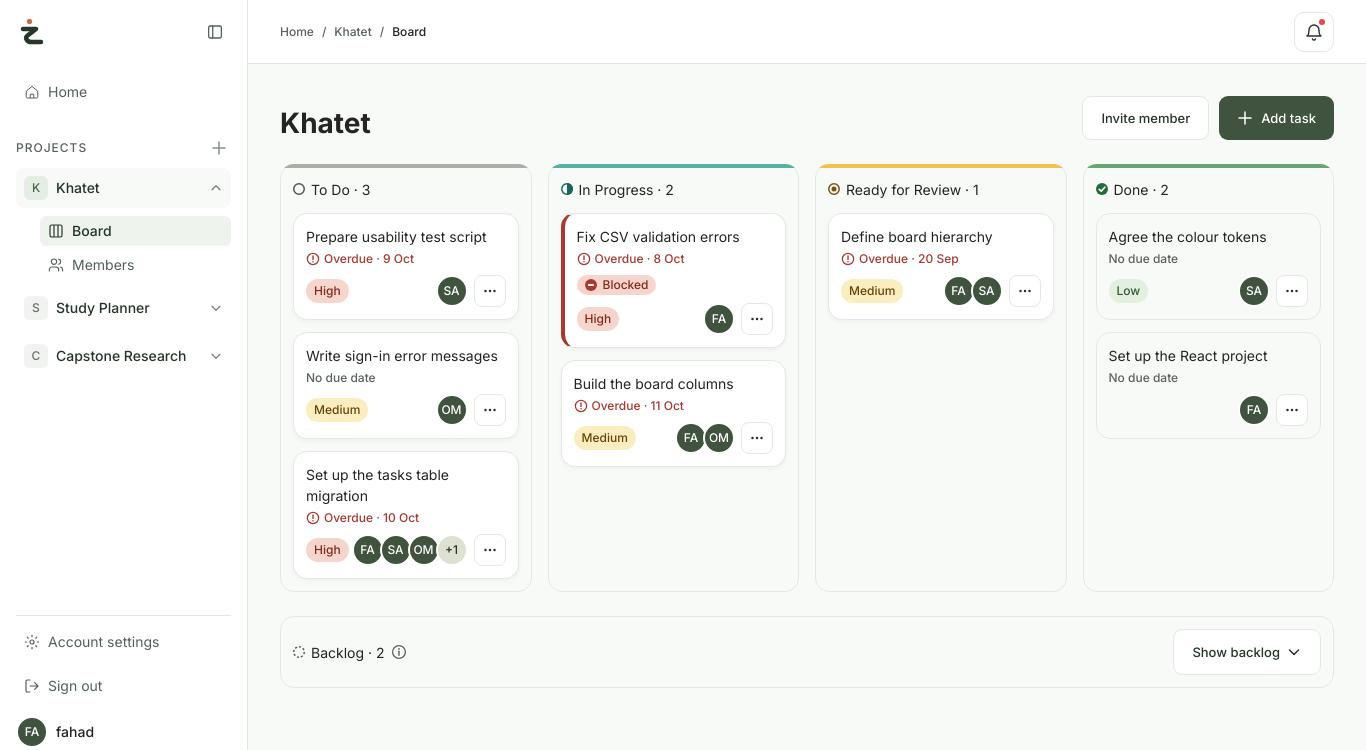
Scenario: board (US-16, US-21) › keeps Backlog collapsed under the lanes until it is opened
The image size is (1366, 750).
Expected: the text "Collect interview notes" is not shown
Click the button "Show backlog" at [1247, 652], box [1173,629,1321,675]
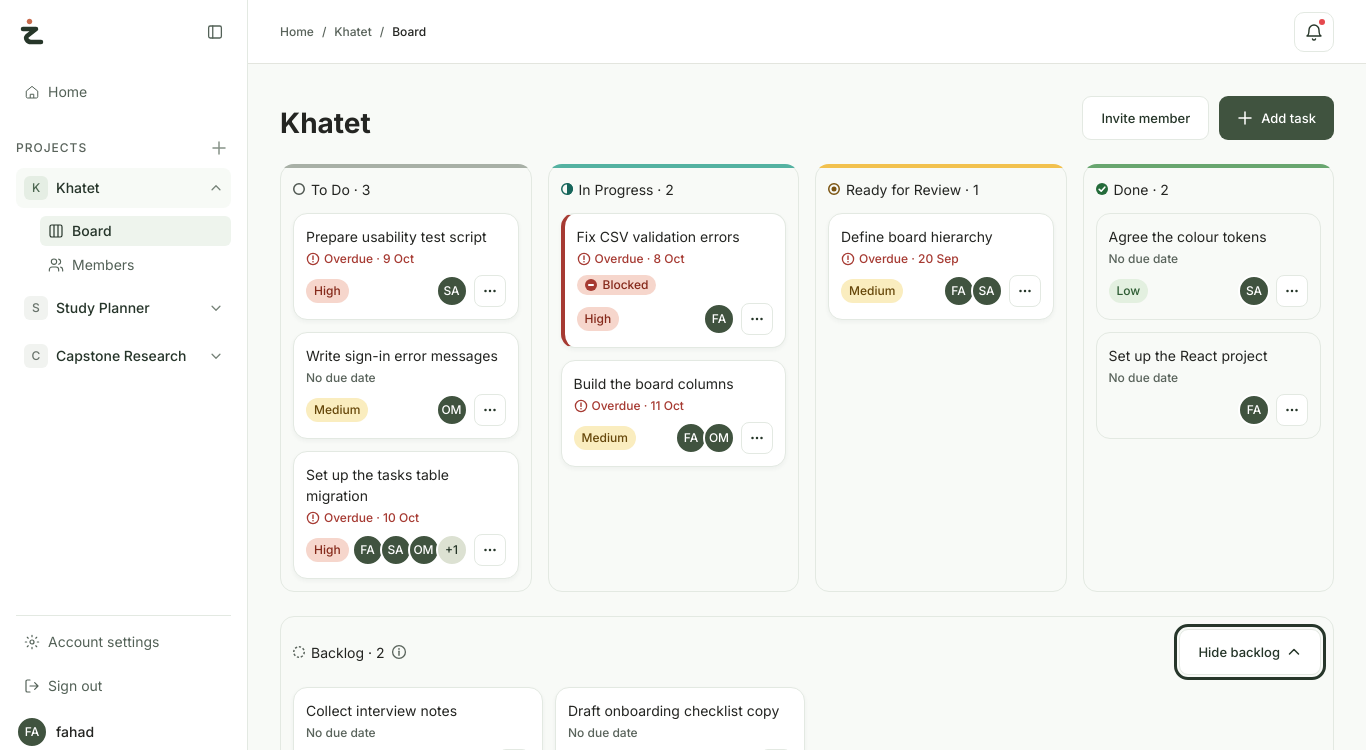
Now the button "Hide backlog" is expanded, box [1179,629,1321,675]
Now the button "Collect interview notes" is shown, box [306,698,530,723]
